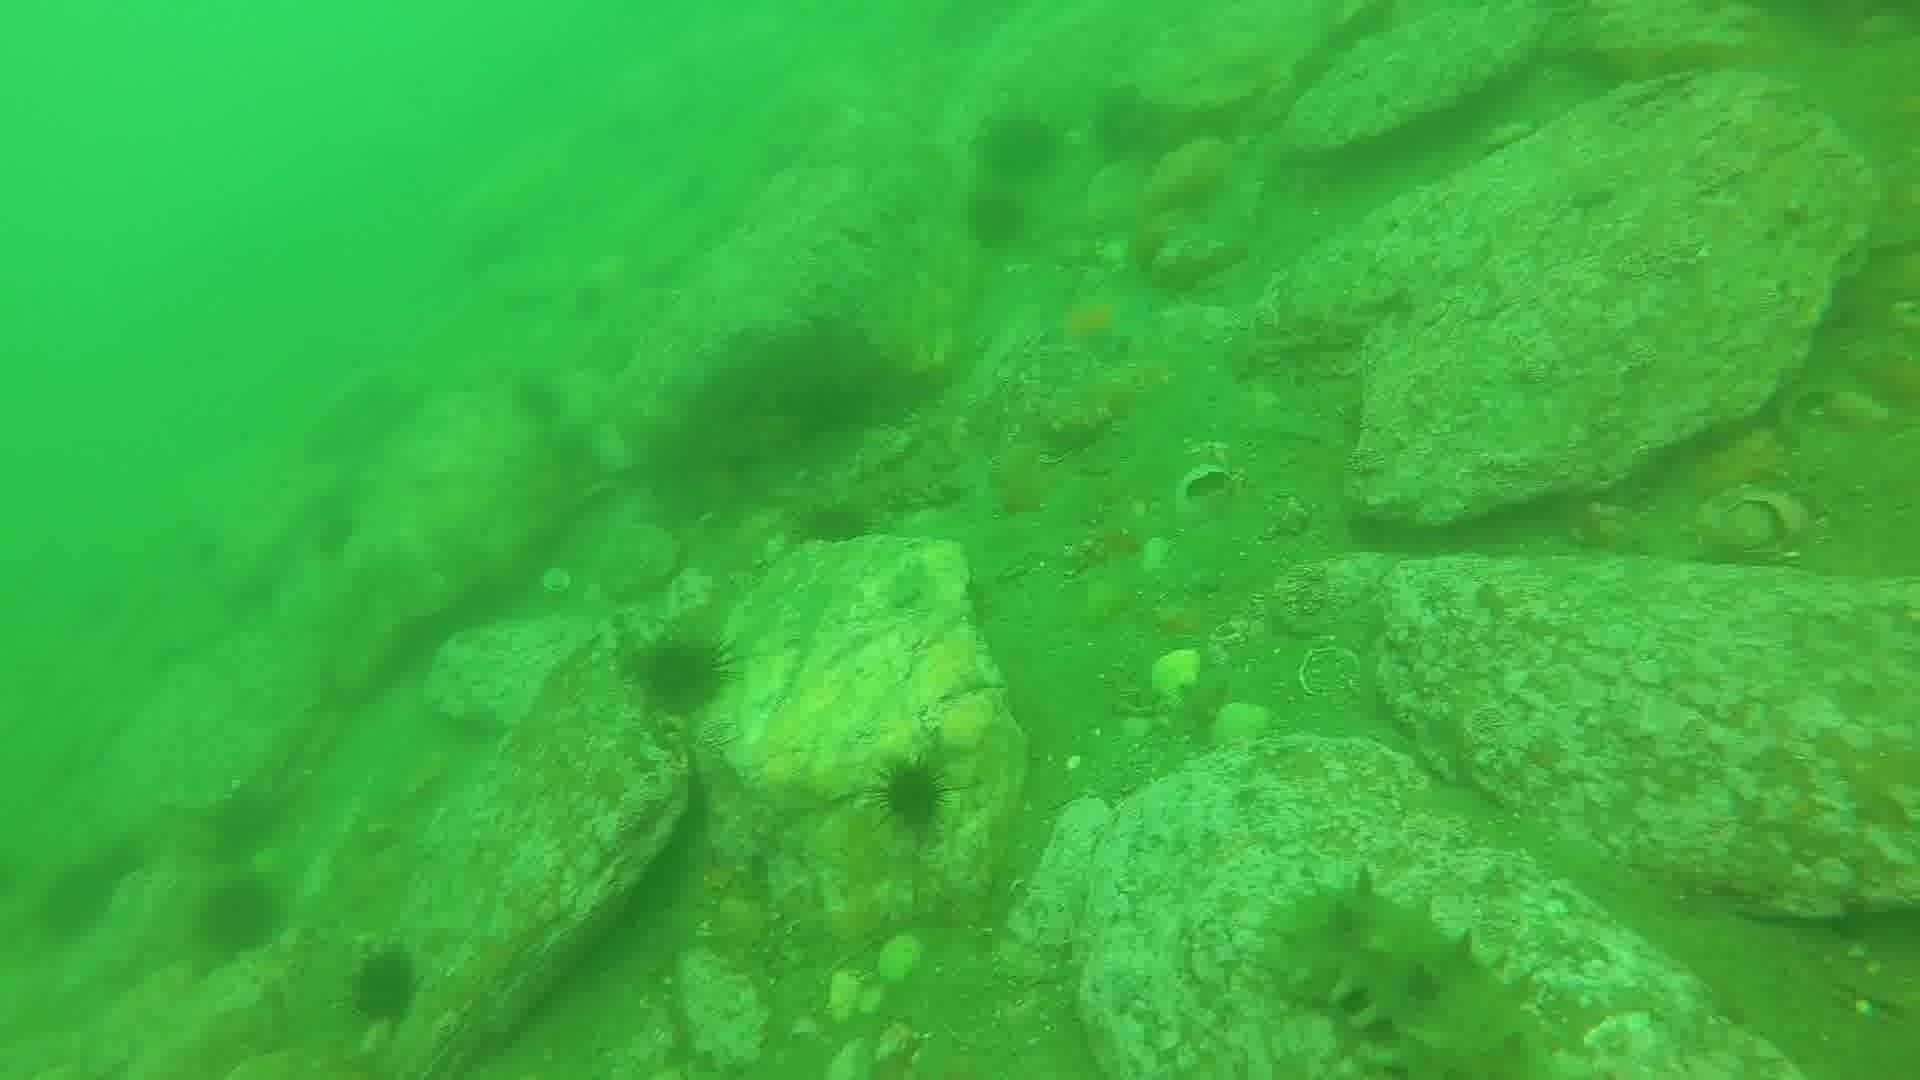echinus: (629, 632, 735, 719), (36, 855, 127, 947), (193, 873, 284, 960), (870, 754, 956, 839), (973, 108, 1065, 182), (344, 944, 425, 1029), (961, 187, 1033, 255), (795, 497, 876, 553), (309, 506, 371, 566), (506, 372, 570, 430)
holothurian: (1269, 873, 1559, 1073)
starfish: (1040, 277, 1158, 367)
